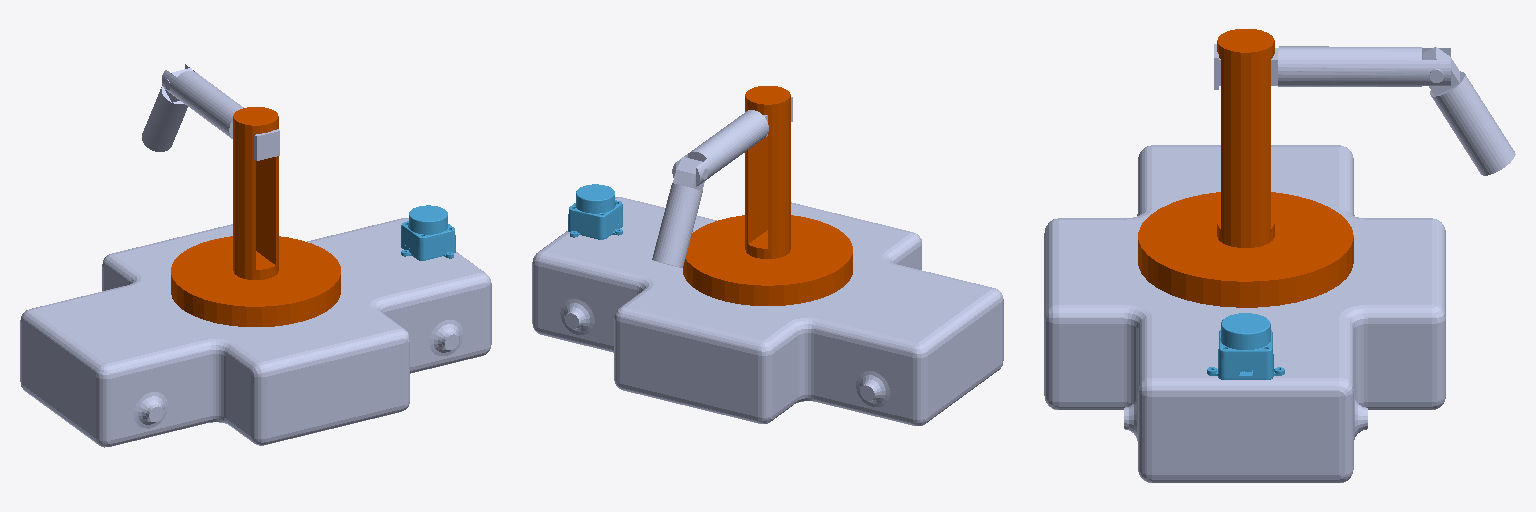
robot.urdf — finalexam_ros:
<?xml version="1.0"?>
<robot name="finalexam_ros">

  <link name="base_link">
    <inertial>
      <origin xyz="4.60613173636493E-05 -5.48293926705412E-06 -0.0455994153912339" rpy="0 0 0" />
      <mass value="3.07925886782748" />
      <inertia ixx="0.0182612787332782" ixy="4.38402725811977E-09" ixz="7.40473162008238E-07" iyy="0.0388954755485699" iyz="2.46848881765906E-07" izz="0.0521757181959699" />
    </inertial>
    <visual>
      <origin xyz="0 0 0" rpy="0 0 0" />
      <geometry>
        <mesh filename="package://finalexam_ros/meshes/base_link.STL" />
      </geometry>
      <material name=""><color rgba="0.792156862745098 0.819607843137255 0.933333333333333 1" /></material>
    </visual>
    <collision>
      <origin xyz="0 0 0.02" rpy="0 0 0" />
      <geometry>
        <box size="0.30 0.14 0.08" />
      </geometry>
    </collision>
  </link>

  <link name="back_right">
    <inertial>
      <origin xyz="-1.67630940679508E-05 0.0187510063255215 -7.16149980251046E-06" rpy="0 0 0" />
      <mass value="0.144485937463161" />
      <inertia ixx="4.00827800129865E-05" ixy="4.46642384261894E-11" ixz="-2.70611065491029E-10" iyy="6.17257618808325E-05" iyz="8.90635847424176E-09" izz="4.0070713306064E-05" />
    </inertial>
    <visual>
      <origin xyz="0 0 0" rpy="0 0 0" />
      <geometry><mesh filename="package://finalexam_ros/meshes/back_right.STL" /></geometry>
      <material name=""><color rgba="0.752941176470588 0.752941176470588 0.752941176470588 1" /></material>
    </visual>
    <collision>
      <origin xyz="0 0.019 0" rpy="1.5708 0 0" />
      <geometry><cylinder radius="0.05" length="0.04" /></geometry>
    </collision>
  </link>
  <joint name="Backright" type="continuous">
    <origin xyz="-0.14986476224812 -0.119750309596582 -0.0500082781805382" rpy="0 0 0" />
    <parent link="base_link" /><child link="back_right" />
    <axis xyz="0 -1 0" /> <limit effort="1000" velocity="25" />
    <dynamics damping="0.1" friction="0.1" />
  </joint>

  <link name="back_left">
    <inertial>
      <origin xyz="-3.39557239761867E-05 -0.0188726902692292 -8.36398948255157E-05" rpy="0 0 0" />
      <mass value="0.145187835560938" />
      <inertia ixx="4.00896149033657E-05" ixy="2.55957160672069E-10" ixz="8.70435351802457E-09" iyy="6.17369826623331E-05" iyz="-3.89988473797599E-11" izz="4.0102762059215E-05" />
    </inertial>
    <visual>
      <origin xyz="0 0 0" rpy="0 0 0" />
      <geometry><mesh filename="package://finalexam_ros/meshes/back_left.STL" /></geometry>
      <material name=""><color rgba="0.752941176470588 0.752941176470588 0.752941176470588 1" /></material>
    </visual>
    <collision>
      <origin xyz="0 -0.019 0" rpy="1.5708 0 0" />
      <geometry><cylinder radius="0.05" length="0.04" /></geometry>
    </collision>
  </link>
  <joint name="Backleft" type="continuous">
    <origin xyz="-0.149911509223914 0.120249690403418 -0.0499105515525619" rpy="0 0 0" />
    <parent link="base_link" /><child link="back_left" />
    <axis xyz="0 -1 0" /> <limit effort="1000" velocity="25" />
    <dynamics damping="0.1" friction="0.1" />
  </joint>

  <link name="front_left">
    <inertial>
      <origin xyz="-6.80328921531421E-05 -0.0167510064700166 8.07998104851437E-06" rpy="0 0 0" />
      <mass value="0.144485936513102" />
      <inertia ixx="4.00815064397821E-05" ixy="-3.04651677116548E-09" ixz="-3.71818198356295E-09" iyy="6.17257625535643E-05" iyz="-8.36894560707643E-09" izz="4.00719869637442E-05" />
    </inertial>
    <visual>
      <origin xyz="0 0 0" rpy="0 0 0" />
      <geometry><mesh filename="package://finalexam_ros/meshes/front_left.STL" /></geometry>
      <material name=""><color rgba="0.752941176470588 0.752941176470588 0.752941176470588 1" /></material>
    </visual>
    <collision>
      <origin xyz="0 -0.017 0" rpy="1.5708 0 0" />
      <geometry><cylinder radius="0.05" length="0.04" /></geometry>
    </collision>
  </link>
  <joint name="Frontleft" type="continuous">
    <origin xyz="0.150048677021618 0.118249690403418 -0.0499983612731708" rpy="0 0 0" />
    <parent link="base_link" /><child link="front_left" />
    <axis xyz="0 -1 0" /> <limit effort="1000" velocity="25" />
    <dynamics damping="0.1" friction="0.1" />
  </joint>

  <link name="front_right">
    <inertial>
      <origin xyz="-4.01276467762099E-06 0.0188726903120324 9.0180349112845E-05" rpy="0 0 0" />
      <mass value="0.145187835558896" />
      <inertia ixx="4.00855976097913E-05" ixy="-2.54242827598535E-10" ixz="-2.60989001776178E-09" iyy="6.17369826510031E-05" iyz="4.8932975675359E-11" izz="4.01067793273605E-05" />
    </inertial>
    <visual>
      <origin xyz="0 0 0" rpy="0 0 0" />
      <geometry><mesh filename="package://finalexam_ros/meshes/front_right.STL" /></geometry>
      <material name=""><color rgba="0.752941176470588 0.752941176470588 0.752941176470588 1" /></material>
    </visual>
    <collision>
      <origin xyz="0 0.019 0" rpy="1.5708 0 0" />
      <geometry><cylinder radius="0.05" length="0.04" /></geometry>
    </collision>
  </link>
  <joint name="Frontright" type="continuous">
    <origin xyz="0.15005643750699 -0.119750309596582 -0.050096622662408" rpy="0 0 0" />
    <parent link="base_link" /><child link="front_right" />
    <axis xyz="0 -1 0" />
    <limit effort="1000" velocity="25" />
    <dynamics damping="0.1" friction="0.1" />
  </joint>

  <link name="fix_arm">
    <inertial>
      <origin xyz="5.16407718889056E-05 0.000249690403418157 0.0272580512075361" rpy="0 0 0" />
      <mass value="0.439295546431636" />
      <inertia ixx="0.00124081698488693" ixy="4.90491967605696E-08" ixz="3.29766832418635E-19" iyy="0.00124982311483853" iyz="2.3715938386396E-19" izz="0.00101616739612817" />
    </inertial>
    <visual><geometry><mesh filename="package://finalexam_ros/meshes/fix_arm.STL" /></geometry></visual>
    <collision><origin xyz="0 0 0.027" /><geometry><cylinder radius="0.04" length="0.06" /></geometry></collision>
  </link>
  <joint
    name="Fixarm"
    type="fixed">
    <origin
      xyz="0 0 0"
      rpy="0 0 0" />
    <parent
      link="base_link" />
    <child
      link="fix_arm" />
    <axis
      xyz="0 0 0" />
  </joint>

  <link
    name="joint_1">
    <inertial>
      <origin
        xyz="0.000304670881587754 0.0559437297110564 0.129999996094583"
        rpy="0 0 0" />
      <mass
        value="0.0848039939096306" />
      <inertia
        ixx="0.000142384120242274"
        ixy="-7.3199738064874E-07"
        ixz="-5.98501563417493E-13"
        iyy="7.97751875557315E-06"
        iyz="1.85113127209417E-11"
        izz="0.000142569533457675" />
    </inertial>
    <visual>
      <origin
        xyz="0 0 0"
        rpy="0 0 0" />
      <geometry>
        <mesh
          filename="package://finalexam_ros/meshes/joint_1.STL" />
      </geometry>
      <material
        name="">
        <color
          rgba="0.792156862745098 0.819607843137255 0.933333333333333 1" />
      </material>
    </visual>

    <collision>
      <origin
        xyz="0 0 0.13"
        rpy="0 0 0" />
      <geometry>
        <cylinder radius="0.02" length="0.15" />
      </geometry>
    </collision>
  </link>
  <joint
    name="Joint1"
    type="prismatic">
    <origin
      xyz="5.16407718889056E-05 0.000249690403418268 0.02"
      rpy="0 0 0" />
    <parent
      link="fix_arm" />
    <child
      link="joint_1" />
    <axis
      xyz="0 0 1" />

    <limit
      lower="-0.11"
      upper="0"
      effort="50"
      velocity="0.5" />
    <dynamics
      damping="0.1"
      friction="10" />
  </joint>

  <link
    name="joint2">
    <inertial>
      <origin
        xyz="0.0387153387889752 0.0154767804769137 -3.78737557859832E-05"
        rpy="0 0 0" />
      <mass
        value="0.0535021473177969" />
      <inertia
        ixx="9.01147443106383E-06"
        ixy="-9.88211726822178E-06"
        ixz="1.54054117281876E-20"
        iyy="2.97812418465219E-05"
        iyz="6.41892155341149E-21"
        izz="3.35652509632372E-05" />
    </inertial>
    <visual>
      <origin
        xyz="0 0 0"
        rpy="0 0 0" />
      <geometry>
        <mesh
          filename="package://finalexam_ros/meshes/joint2.STL" />
      </geometry>
      <material
        name="">
        <color
          rgba="0.792156862745098 0.819607843137255 0.933333333333333 1" />
      </material>
    </visual>

    <collision>
      <origin
        xyz="0.039 0.015 0"
        rpy="0 1.5708 0" />
      <geometry>
        <cylinder radius="0.015" length="0.09" />
      </geometry>
    </collision>
  </link>
  <joint
    name="Joint2"
    type="revolute">
    <origin
      xyz="0.00072256707584864 0.132677524374381 0.130000000000001"
      rpy="-1.57079632679489 0.666899498761747 1.56535034085449" />
    <parent
      link="joint_1" />
    <child
      link="joint2" />
    <axis
      xyz="0 0 -1" />

    <limit
      lower="0"
      upper="2.0933"
      effort="50"
      velocity="1.0" />
  </joint>

  <link
    name="end_effector">
    <inertial>
      <origin
        xyz="0.00133295803156219 0.00136909483014924 -0.000418545179635688"
        rpy="0 0 0" />
      <mass
        value="0.0515155952474648" />
      <inertia
        ixx="1.56449483279695E-05"
        ixy="1.08955306970201E-06"
        ixz="2.23401870692048E-07"
        iyy="1.04579327240331E-05"
        iyz="3.65061446789954E-06"
        izz="1.37527997339835E-05" />
    </inertial>
    <visual>
      <origin
        xyz="0 0 0"
        rpy="0 0 0" />
      <geometry>
        <mesh
          filename="package://finalexam_ros/meshes/end_effector.STL" />
      </geometry>
      <material
        name="">
        <color
          rgba="0.796078431372549 0.823529411764706 0.937254901960784 1" />
      </material>
    </visual>

    <collision>
      <origin
        xyz="0.001 0.001 0"
        rpy="0 0 0" />
      <geometry>
        <sphere radius="0.03" />
      </geometry>
    </collision>
  </link>
  <joint
    name="EE"
    type="fixed">
    <origin
      xyz="0.126708892956664 0.050652944727702 0"
      rpy="0 -1.56535034085447 2.47469315482736" />
    <parent
      link="joint2" />
    <child
      link="end_effector" />
    <axis
      xyz="0 0 0" />
    <dynamics
      damping="0.1"
      friction="10" />
  </joint>
  <link name="lidar">
    <inertial><origin xyz="0.000649834734422927 -0.000432499745949111 0.0114242539296638" /><mass value="0.0120321695084395" /><inertia ixx="2.21429956225363E-06" ixy="-3.38754138037177E-08" ixz="-4.84627957222887E-09" iyy="2.13896956961368E-06" iyz="-4.18985401957555E-09" izz="3.87805432538668E-06" /></inertial>
    <visual><geometry><mesh filename="package://finalexam_ros/meshes/lidar.STL" /></geometry></visual>
    <collision><origin xyz="0 0 0.011" /><geometry><cylinder radius="0.025" length="0.025" /></geometry></collision>
  </link>
  <joint name="Lidar" type="fixed"><origin xyz="0.174303696818418 0.000603620603913058 0.00" /><parent link="base_link" /><child link="lidar" /></joint>

  <link name="lidar_frame"><inertial><mass value="0.001"/><inertia ixx="0.00001" iyy="0.00001" izz="0.00001" ixy="0" ixz="0" iyz="0"/></inertial></link>
  <joint name="lidar_to_frame" type="fixed"><parent link="lidar"/><child link="lidar_frame"/><origin xyz="0 0 0.03" rpy="0 0 0"/></joint>

  <link name="imu">
    <inertial><origin xyz="2.77555756156289E-17 0 -0.00148613416775453" /><mass value="0.00181256637061436" /><inertia ixx="6.14135305642494E-08" ixy="-3.47123277975075E-23" ixz="-3.39167614982162E-25" iyy="1.36413530564249E-07" iyz="3.46710163602183E-25" izz="1.95025132741229E-07" /></inertial>
    <visual><geometry><mesh filename="package://finalexam_ros/meshes/imu.STL" /></geometry></visual>
    <collision><origin xyz="0 0 -0.0015" /><geometry><box size="0.02 0.01 0.003" /></geometry></collision>
  </link>
  <joint name="IMU" type="fixed"><origin xyz="5.16407718888501E-05 -0.00020835506176925 -0.08" /><parent link="base_link" /><child link="imu" /></joint>

  <gazebo reference="lidar_frame">
    <sensor name="lidar" type="ray">
      <pose>0 0 0 0 0 0</pose><always_on>true</always_on><update_rate>10</update_rate><visualize>true</visualize>
      <ray><scan><horizontal><samples>180</samples><resolution>1</resolution><min_angle>-2.0933</min_angle><max_angle>2.0933</max_angle></horizontal></scan><range><min>0.1</min><max>10.0</max><resolution>0.01</resolution></range><noise><type>gaussian</type><mean>0.0</mean><stddev>0.01</stddev></noise></ray>
      <plugin name="gazebo_ros_ray_sensor" filename="libgazebo_ros_ray_sensor.so"><ros><remapping>~/out:=scan</remapping></ros><output_type>sensor_msgs/LaserScan</output_type><frame_name>lidar_frame</frame_name></plugin>
    </sensor>
  </gazebo>

<gazebo reference="front_left">
  <mu1>2.0</mu1>
  <mu2>0.1</mu2>
  <fdir1>1 1 0</fdir1>
</gazebo>

<gazebo reference="back_right">
  <mu1>2.0</mu1>
  <mu2>0.1</mu2>
  <fdir1>1 1 0</fdir1>
</gazebo>

<gazebo reference="front_right">
  <mu1>2.0</mu1>
  <mu2>0.1</mu2>
  <fdir1>1 -1 0</fdir1>
</gazebo>

<gazebo reference="back_left">
  <mu1>2.0</mu1>
  <mu2>0.1</mu2>
  <fdir1>1 -1 0</fdir1>
</gazebo>
  <ros2_control name="GazeboSystem" type="system">
    <hardware><plugin>gazebo_ros2_control/GazeboSystem</plugin></hardware>
    <joint name="Backright"><command_interface name="velocity"><param name="min">-25</param><param name="max">25</param></command_interface><state_interface name="position"/><state_interface name="velocity"/></joint>
    <joint name="Backleft"><command_interface name="velocity"><param name="min">-25</param><param name="max">25</param></command_interface><state_interface name="position"/><state_interface name="velocity"/></joint>
    <joint name="Frontleft"><command_interface name="velocity"><param name="min">-25</param><param name="max">25</param></command_interface><state_interface name="position"/><state_interface name="velocity"/></joint>
    <joint name="Frontright"><command_interface name="velocity"><param name="min">-25</param><param name="max">25</param></command_interface><state_interface name="position"/><state_interface name="velocity"/></joint>
    <joint name="Joint1">
    <command_interface name="position">
      <param name="min">-0.11</param>
      <param name="max">0.0</param>
    </command_interface>
    <state_interface name="position"/>
    <state_interface name="velocity"/>
  </joint>

  <joint name="Joint2">
    <command_interface name="position">
      <param name="min">0.0</param>
      <param name="max">2.0933</param>
    </command_interface>
    <state_interface name="position"/>
    <state_interface name="velocity"/>
    <state_interface name="effort"/>
  </joint>
  </ros2_control>
  
<!--->
QUAN TRONG: noi dung can sua
sua duong dan nay - o dong 402: "/home/ductri/ros2_ws"/src/finalexam_ros/config/controllers.yaml
tro dung den config cua ban
<-->

<gazebo>

    <plugin name="gazebo_ros2_control" filename="libgazebo_ros2_control.so">

    </plugin>

  </gazebo>

  <gazebo reference="imu">
  <sensor name="imu_sensor" type="imu">
    <always_on>true</always_on>
    <update_rate>100</update_rate>
    <visualize>true</visualize>
    <plugin name="gazebo_ros_imu" filename="libgazebo_ros_imu_sensor.so">
      <ros>
        <remapping>~/out:=imu</remapping>
      </ros>
      <initial_orientation_as_reference>false</initial_orientation_as_reference>
      <frame_name>imu</frame_name>
    </plugin>
  </sensor>
</gazebo>

</robot>

--- Render facts (derived) ---
Views: 3 orthographic renders of the robot side by side, from view 1: azimuth 30°, elevation 25°; view 2: azimuth 150°, elevation 25°; view 3: azimuth 270°, elevation 25°.
Model finalexam_ros with 12 links and 11 joints (1 revolute, 4 continuous, 1 prismatic, 5 fixed), rooted at base_link, posed all joints at 0.
Links seen in each view (by area): view 1: base_link, fix_arm, joint_1, lidar, joint2; view 2: base_link, fix_arm, joint2, joint_1, lidar; view 3: base_link, fix_arm, joint_1, joint2, lidar.
Boxes of the visible links, left/top/right/bottom form: base_link: left=20, top=218, right=491, bottom=447; fix_arm: left=171, top=107, right=340, bottom=326; joint_1: left=162, top=64, right=279, bottom=160; lidar: left=401, top=205, right=455, bottom=260; joint2: left=142, top=68, right=196, bottom=151; base_link: left=532, top=197, right=1003, bottom=425; fix_arm: left=683, top=86, right=852, bottom=305; joint2: left=652, top=157, right=708, bottom=267; joint_1: left=672, top=97, right=792, bottom=186; lidar: left=568, top=184, right=622, bottom=239; base_link: left=1044, top=145, right=1445, bottom=482; fix_arm: left=1138, top=29, right=1353, bottom=307; joint_1: left=1214, top=44, right=1450, bottom=89; joint2: left=1423, top=47, right=1515, bottom=175; lidar: left=1207, top=313, right=1284, bottom=379.
Size in the robot's own frame: 0.4 by 0.3274 by 0.253 metres.
6 mesh visuals loaded from 11 distinct referenced files (6 binary STL); not drawn: 5 (reference not matched to a file when rendering).
